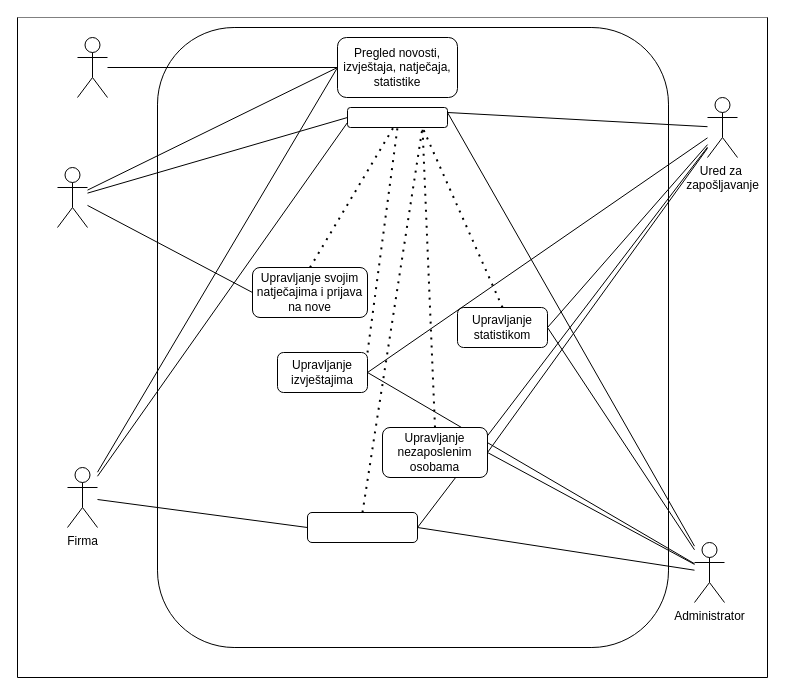
The diagram is 785 pixels wide and 695 high, and some of its shapes have lost their labels. The shapes that lost their labels are listed below. From the top down, each one's centre as x and y in pixels, then its label:
At pixel 92 67: "Posjetitelj".
At pixel 397 117: "Prijava na sustav".
At pixel 72 197: "Nezaposlena osoba".
At pixel 362 527: "Upravljanje natječajima".
